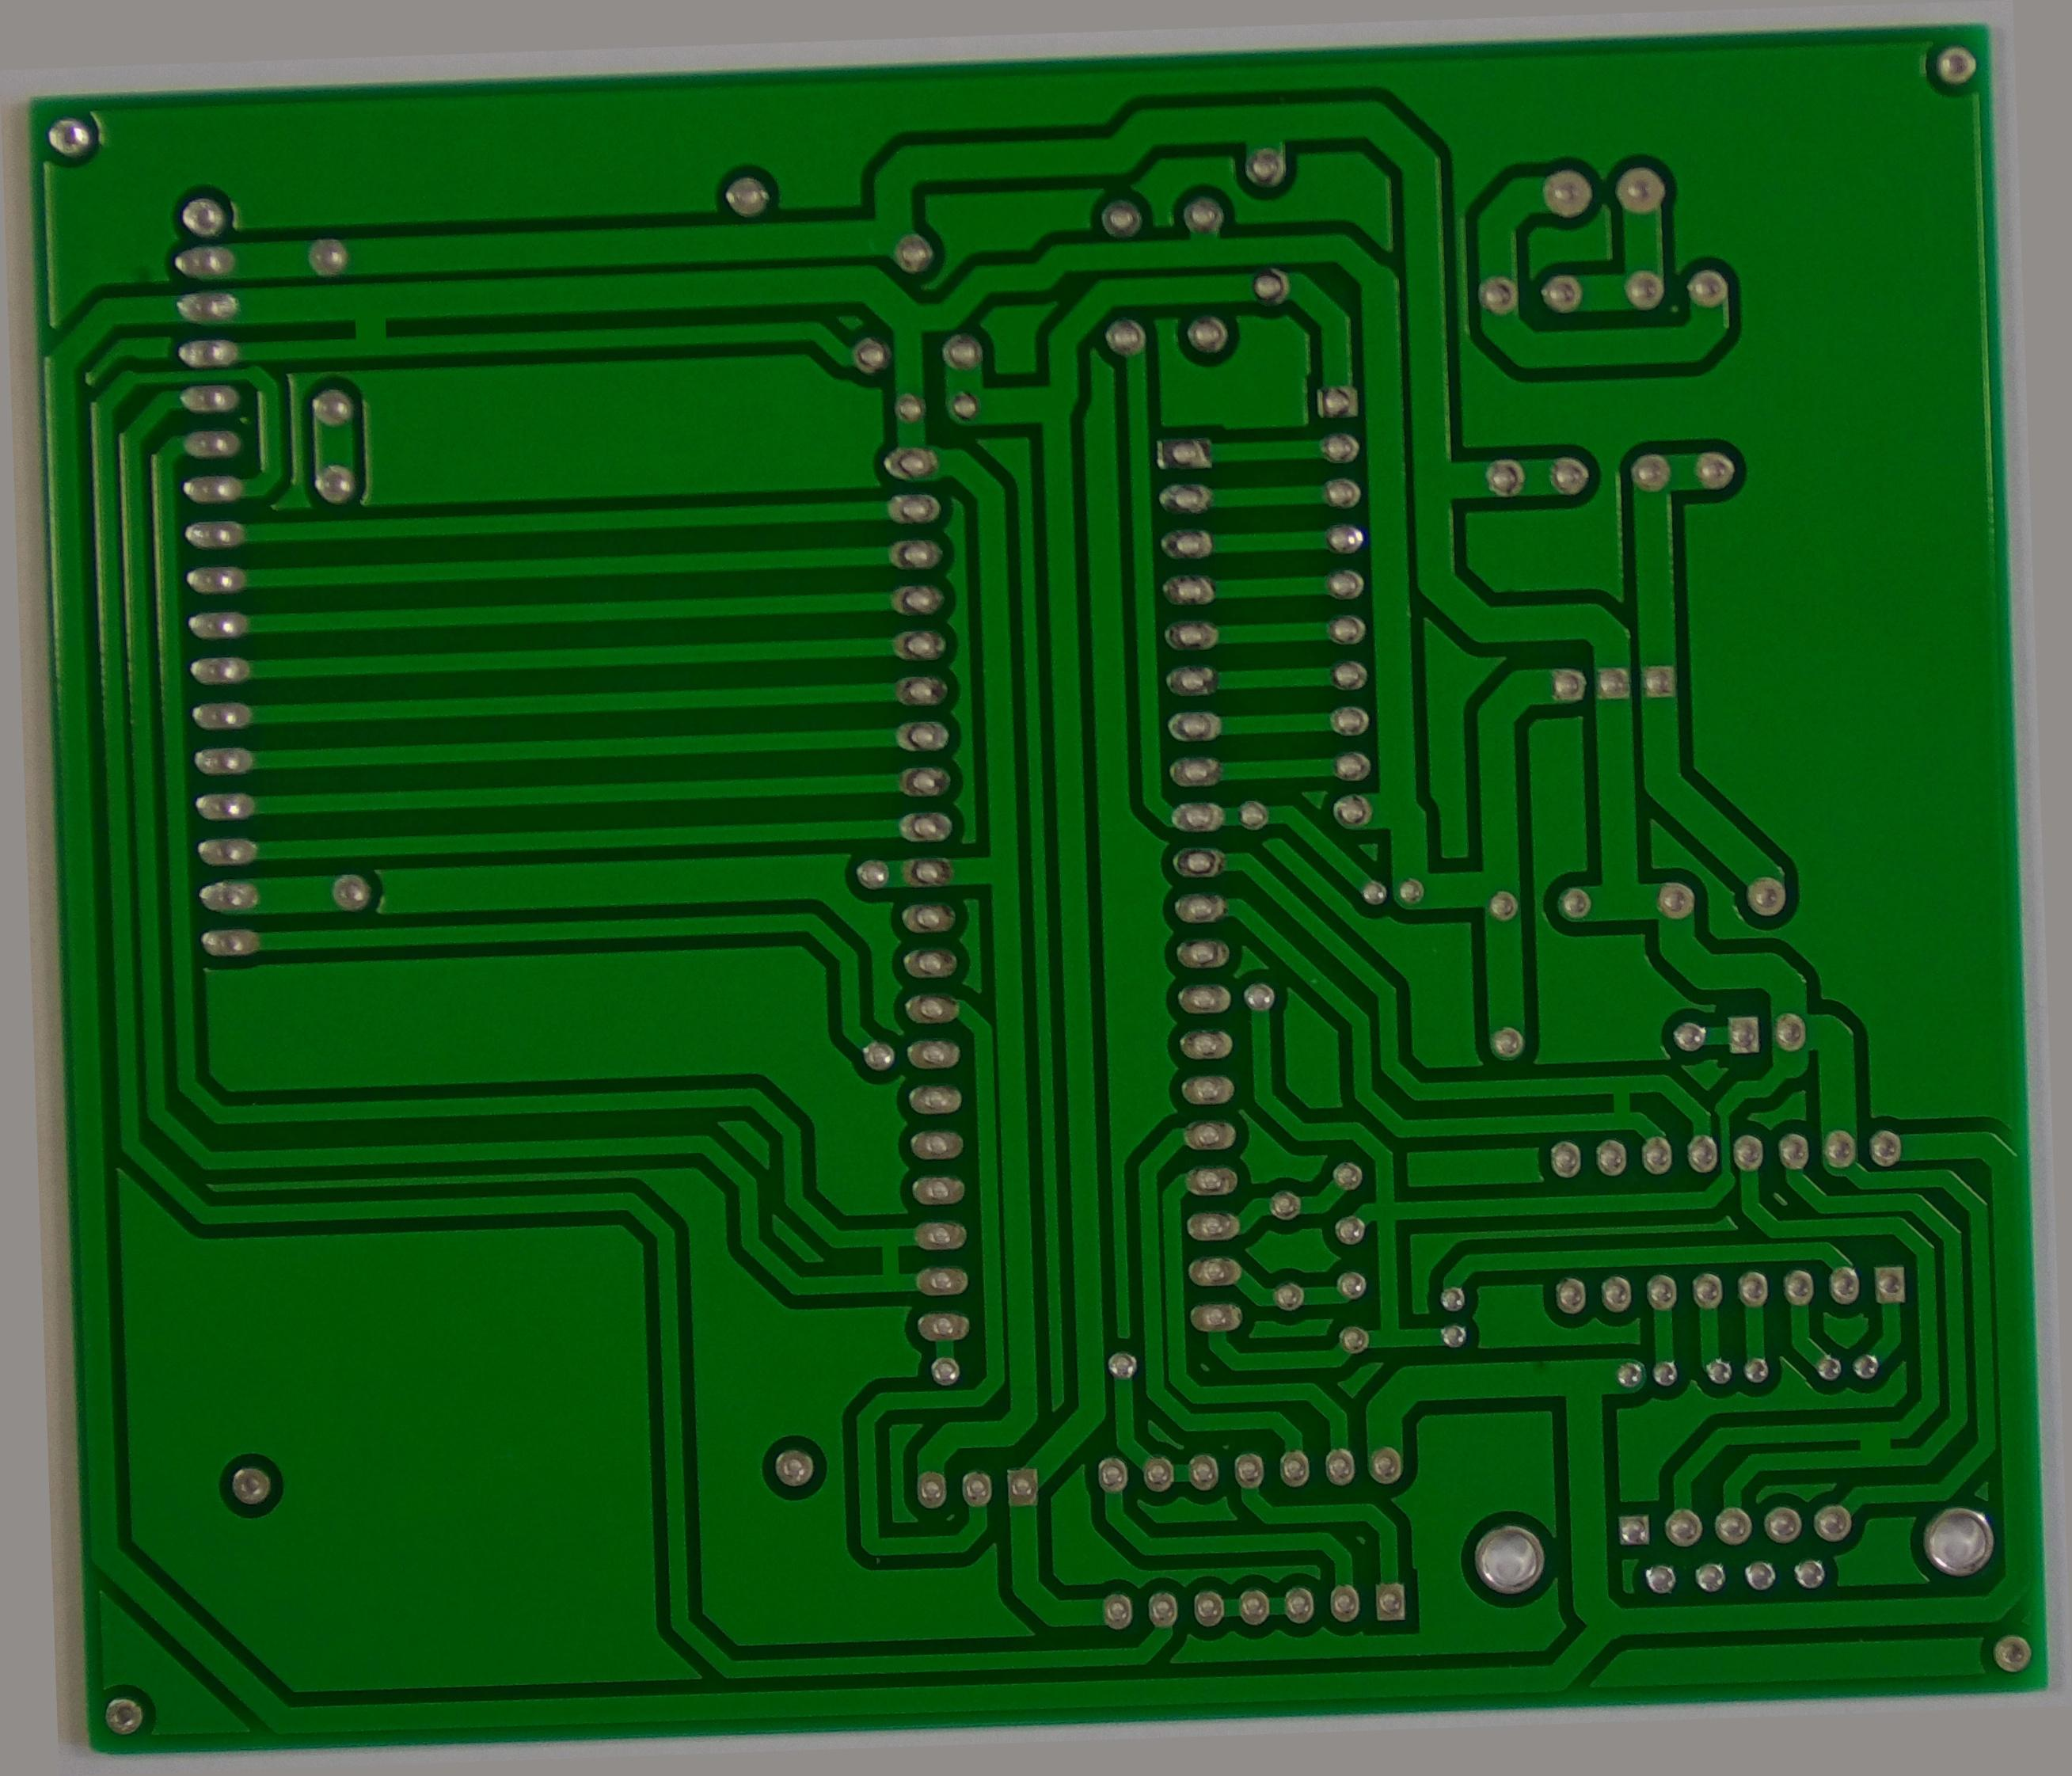short: (324, 289, 414, 365), (1832, 1413, 1920, 1476), (849, 1223, 921, 1299), (1587, 1069, 1656, 1131)
